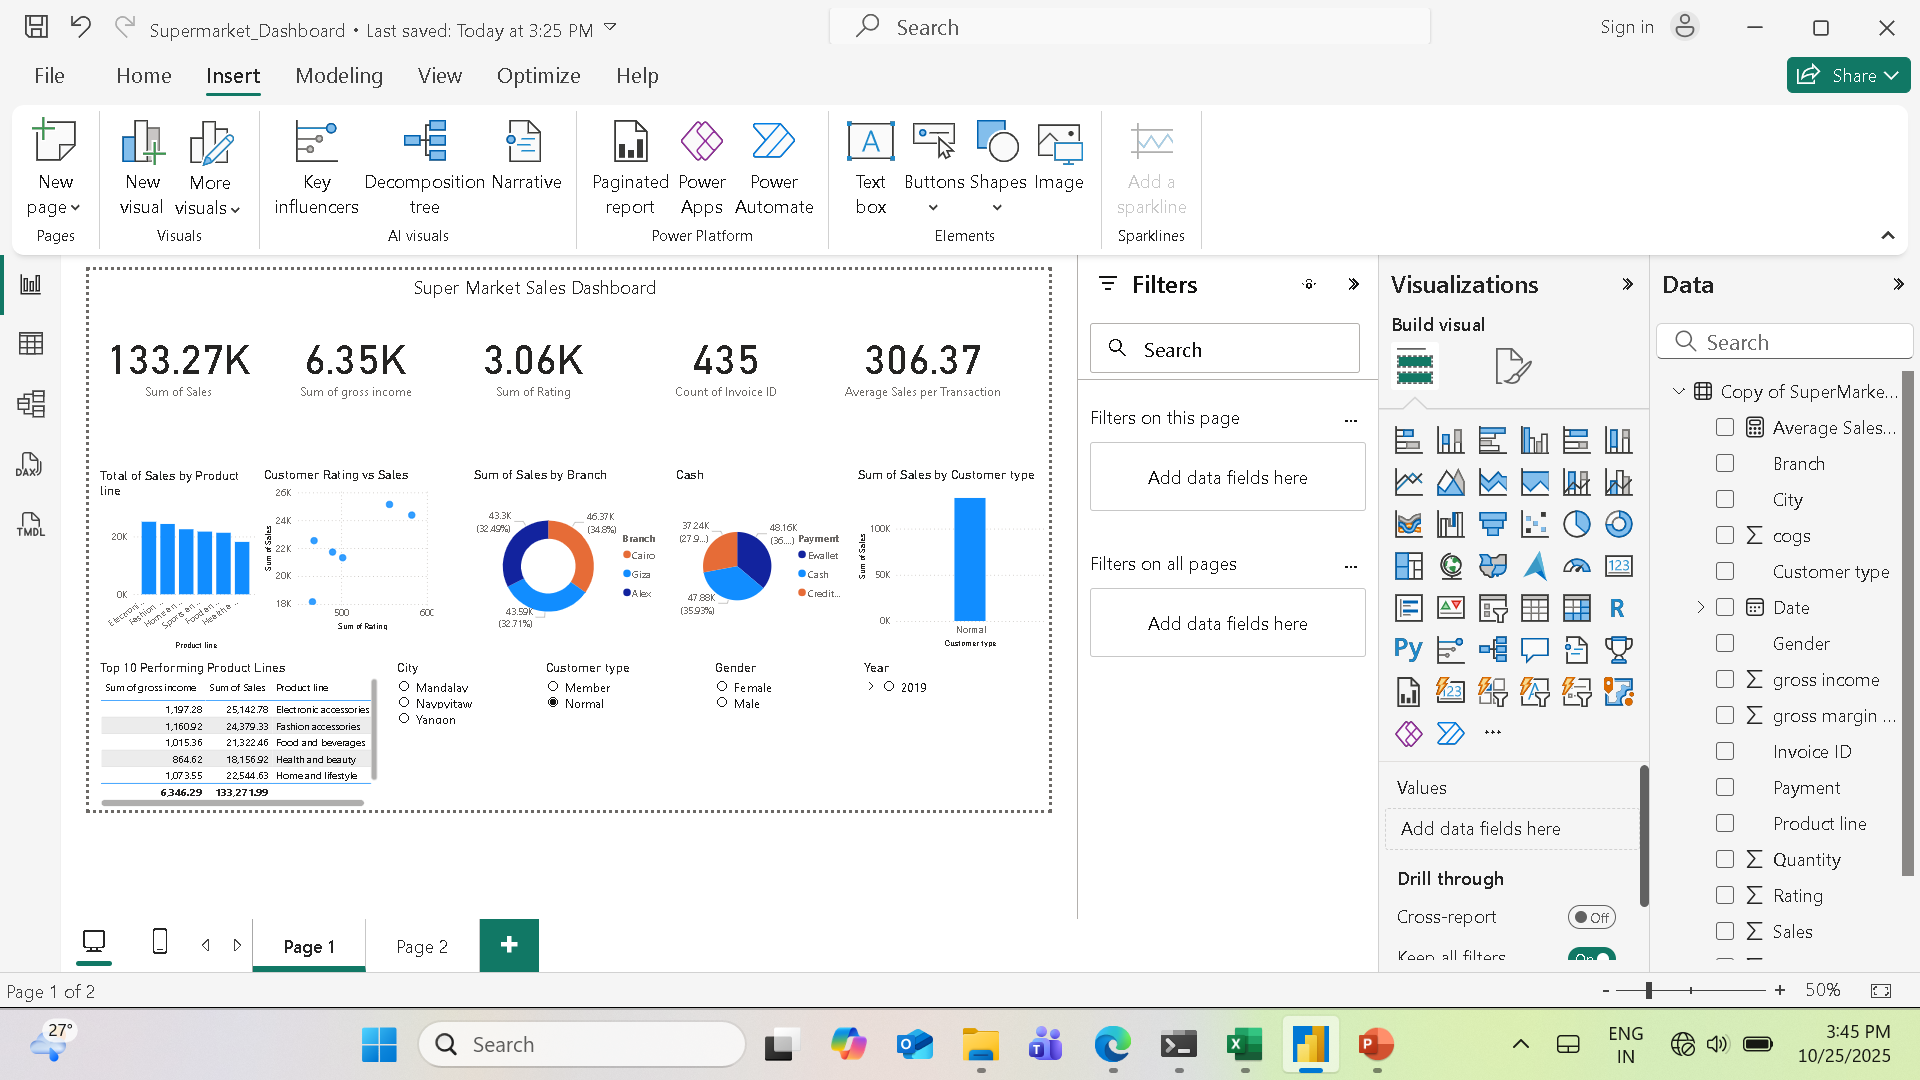

The dashboard page shown, as its layout file describes it:
{"tool":"powerbi","page":{"name":"Page 1","canvas":[1280,720],"ordinal":0},"visuals":[{"type":"card","fields":{"Values":["Sum(Copy of SuperMarket Analysis.Sales)"]},"box":[9.4,0,219.2,245.7],"z":0},{"type":"card","fields":{"Values":["Sum(Copy of SuperMarket Analysis.gross income)"]},"box":[245.7,0,219.2,245.7],"z":1000},{"type":"card","fields":{"Values":["Sum(Copy of SuperMarket Analysis.Rating)"]},"box":[464.9,0,257,245.7],"z":2000},{"type":"card","fields":{"Values":["Count(Copy of SuperMarket Analysis.Invoice ID)"]},"box":[721.9,0,253.2,245.7],"z":3000},{"type":"card","fields":{"Values":["Copy of SuperMarket Analysis.Average Sales per Transaction"]},"box":[992.1,0,240,245.7],"z":4000},{"type":"columnChart","title":"Total of Sales by Product line","fields":{"Category":["Copy of SuperMarket Analysis.Product line"],"Y":["Sum(Copy of SuperMarket Analysis.Sales)"]},"box":[9,263,219,246],"z":5000},{"type":"donutChart","fields":{"Category":["Copy of SuperMarket Analysis.Branch"],"Y":["Sum(Copy of SuperMarket Analysis.Sales)"]},"box":[508.4,262.7,270.2,245.7],"z":7000},{"type":"pieChart","fields":{"Category":["Copy of SuperMarket Analysis.Payment"],"Y":["Sum(Copy of SuperMarket Analysis.Sales)"]},"box":[778.6,262.7,241.9,245.7],"z":8000},{"type":"clusteredColumnChart","fields":{"Category":["Copy of SuperMarket Analysis.Customer type"],"Y":["Sum(Copy of SuperMarket Analysis.Sales)"]},"box":[1020.5,262.7,258.9,245.7],"z":9000},{"type":"tableEx","title":"Top 10 Performing Product Lines","fields":{"Values":["Sum(Copy of SuperMarket Analysis.gross income)","Sum(Copy of SuperMarket Analysis.Sales)","Copy of SuperMarket Analysis.Product line"]},"box":[9.4,519.7,379.8,200.3],"z":10000},{"type":"scatterChart","title":"Customer Rating vs Sales","fields":{"X":["Sum(Copy of SuperMarket Analysis.Rating)"],"Y":["Sum(Copy of SuperMarket Analysis.Sales)"],"Category":["Copy of SuperMarket Analysis.Product line"]},"box":[228.7,262.7,236.2,223],"z":11000},{"type":"listSlicer","fields":{"Values":["Copy of SuperMarket Analysis.City"]},"box":[406.3,519.7,204.1,200.3],"z":11001},{"type":"listSlicer","fields":{"Values":["Copy of SuperMarket Analysis.Customer type"]},"box":[604.7,519.7,189,200.3],"z":11002},{"type":"listSlicer","fields":{"Values":["Copy of SuperMarket Analysis.Gender"]},"box":[829.6,519.7,226.8,200.3],"z":11003},{"type":"listSlicer","fields":{"Values":["Copy of SuperMarket Analysis.Date.Variation.Date Hierarchy.Year","Copy of SuperMarket Analysis.Date.Variation.Date Hierarchy.Quarter","Copy of SuperMarket Analysis.Date.Variation.Date Hierarchy.Month","Copy of SuperMarket Analysis.Date.Variation.Date Hierarchy.Day"]},"box":[1028,519.7,204.1,200.3],"z":11004},{"type":"textbox","box":[429,0,349.6,47.2],"z":11005}]}

Visuals, with their boxes on the page's 1280x720 design canvas (x1, y1, x2, y2). These are canvas units, not pixel positions in the 1920x1080 screenshot, which may show the page scaled, cropped or inside an application window:
card - Sum(Copy of SuperMarket Analysis.Sales): 9,0,229,246
card - Sum(Copy of SuperMarket Analysis.gross income): 246,0,465,246
card - Sum(Copy of SuperMarket Analysis.Rating): 465,0,722,246
card - Count(Copy of SuperMarket Analysis.Invoice ID): 722,0,975,246
card - Copy of SuperMarket Analysis.Average Sales per Transaction: 992,0,1232,246
"Total of Sales by Product line" columnChart: 9,263,228,509
donutChart - Copy of SuperMarket Analysis.Branch x Sum(Copy of SuperMarket Analysis.Sales): 508,263,779,508
pieChart - Copy of SuperMarket Analysis.Payment x Sum(Copy of SuperMarket Analysis.Sales): 779,263,1020,508
clusteredColumnChart - Copy of SuperMarket Analysis.Customer type x Sum(Copy of SuperMarket Analysis.Sales): 1020,263,1279,508
"Top 10 Performing Product Lines" tableEx: 9,520,389,720
"Customer Rating vs Sales" scatterChart: 229,263,465,486
listSlicer - Copy of SuperMarket Analysis.City: 406,520,610,720
listSlicer - Copy of SuperMarket Analysis.Customer type: 605,520,794,720
listSlicer - Copy of SuperMarket Analysis.Gender: 830,520,1056,720
listSlicer - Copy of SuperMarket Analysis.Date.Variation.Date Hierarchy.Year x Copy of SuperMarket Analysis.Date.Variation.Date Hierarchy.Quarter: 1028,520,1232,720
textbox: 429,0,779,47
